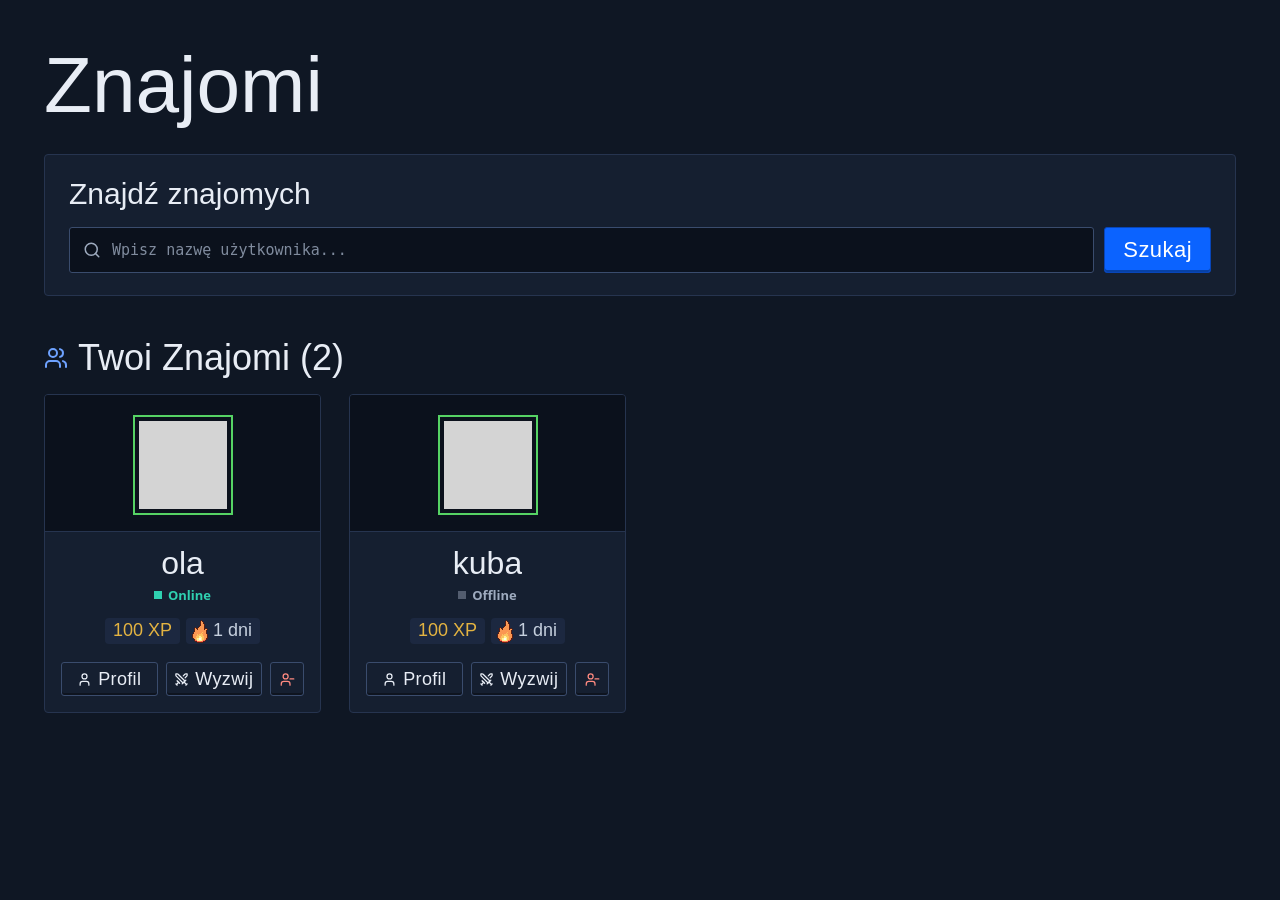
Scenario: friends page › keeps the dialog open and explains a failed removal
Click the button named "Usuń ola ze znajomych".
click(287, 679)  # box [270, 662, 304, 696]
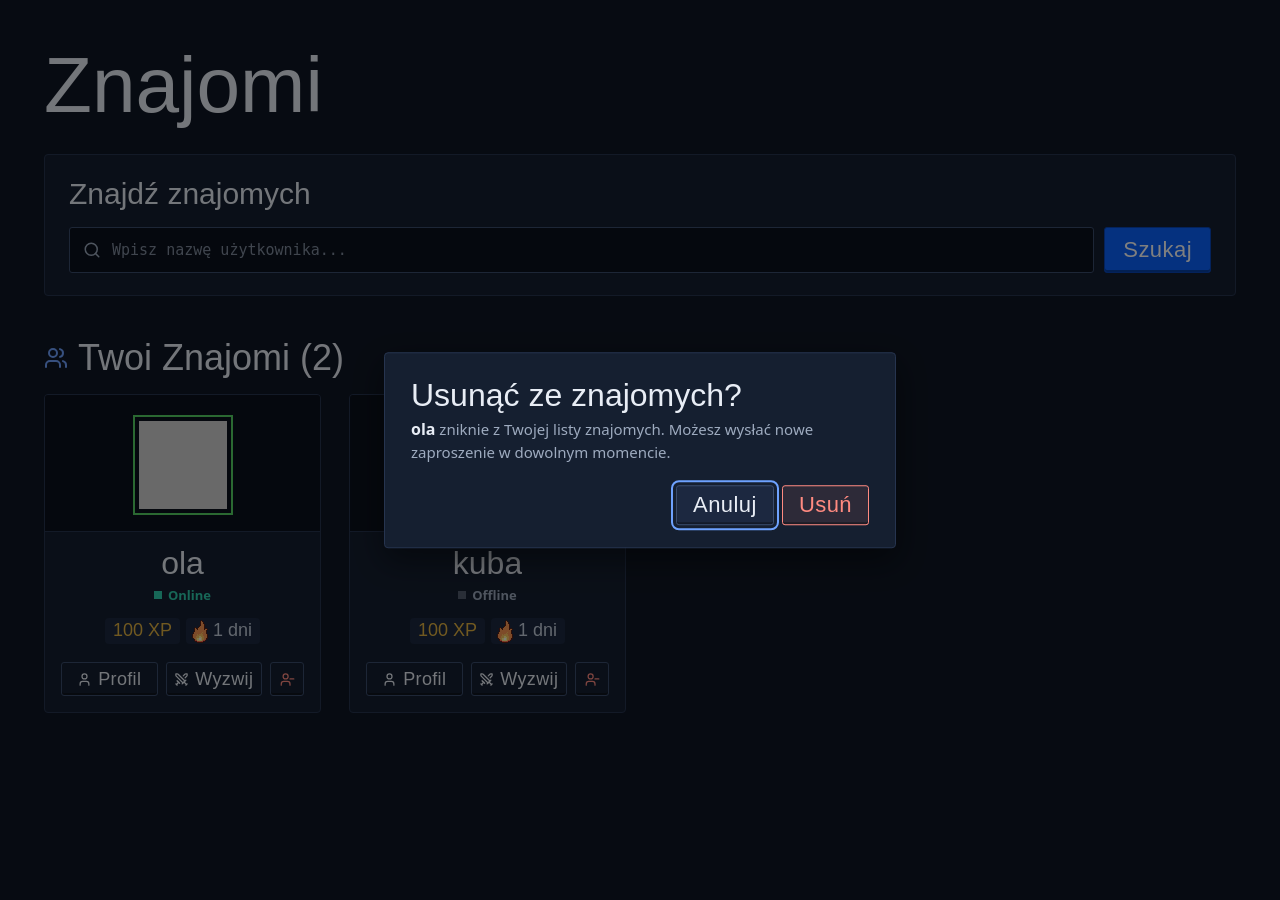
Click the button "Usuń".
click(825, 505)  # box [782, 485, 869, 525]
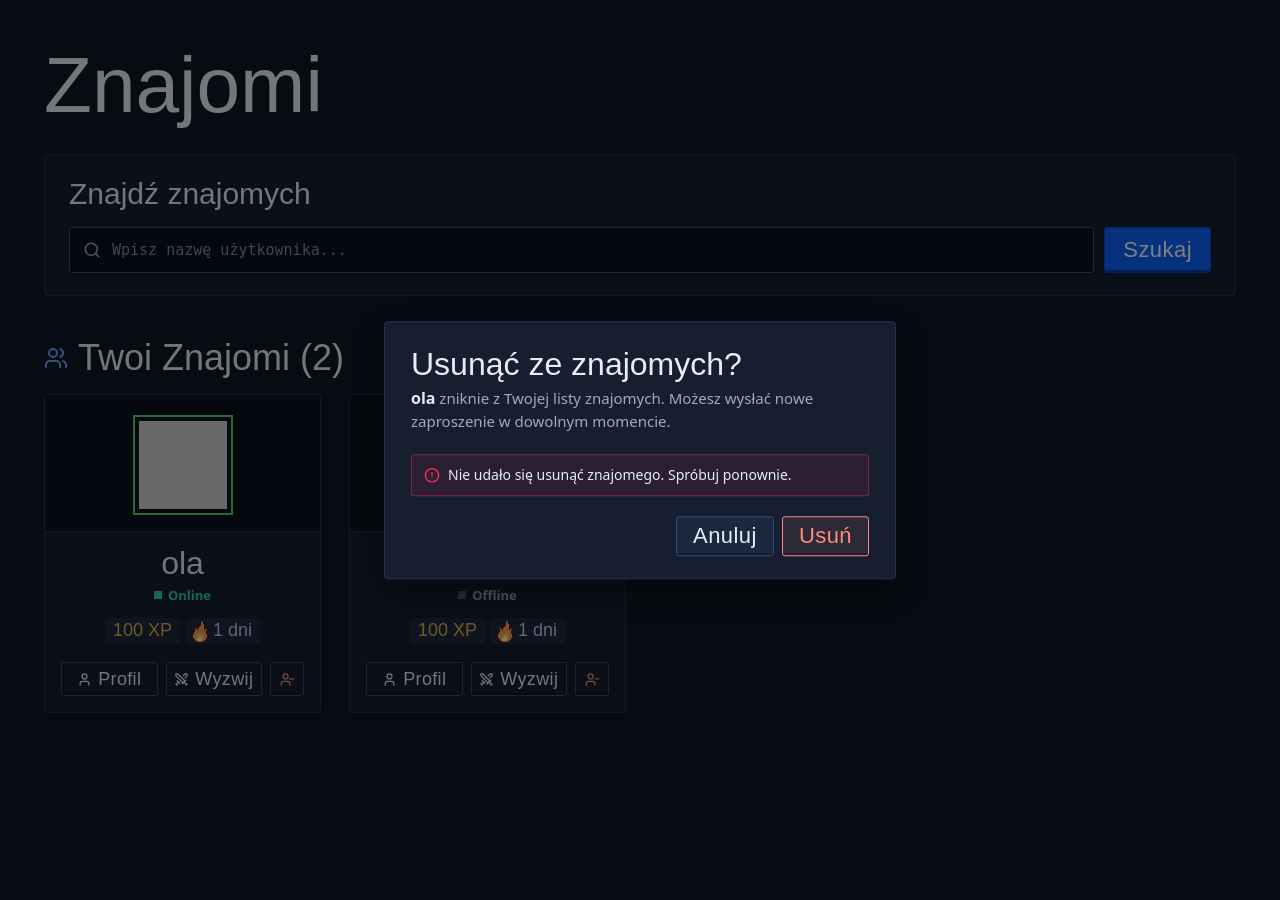
Result: the dialog is shown at [384, 321, 896, 579]
Result: the message shows "Nie udało się usunąć znajomego" at [448, 465, 792, 484]
